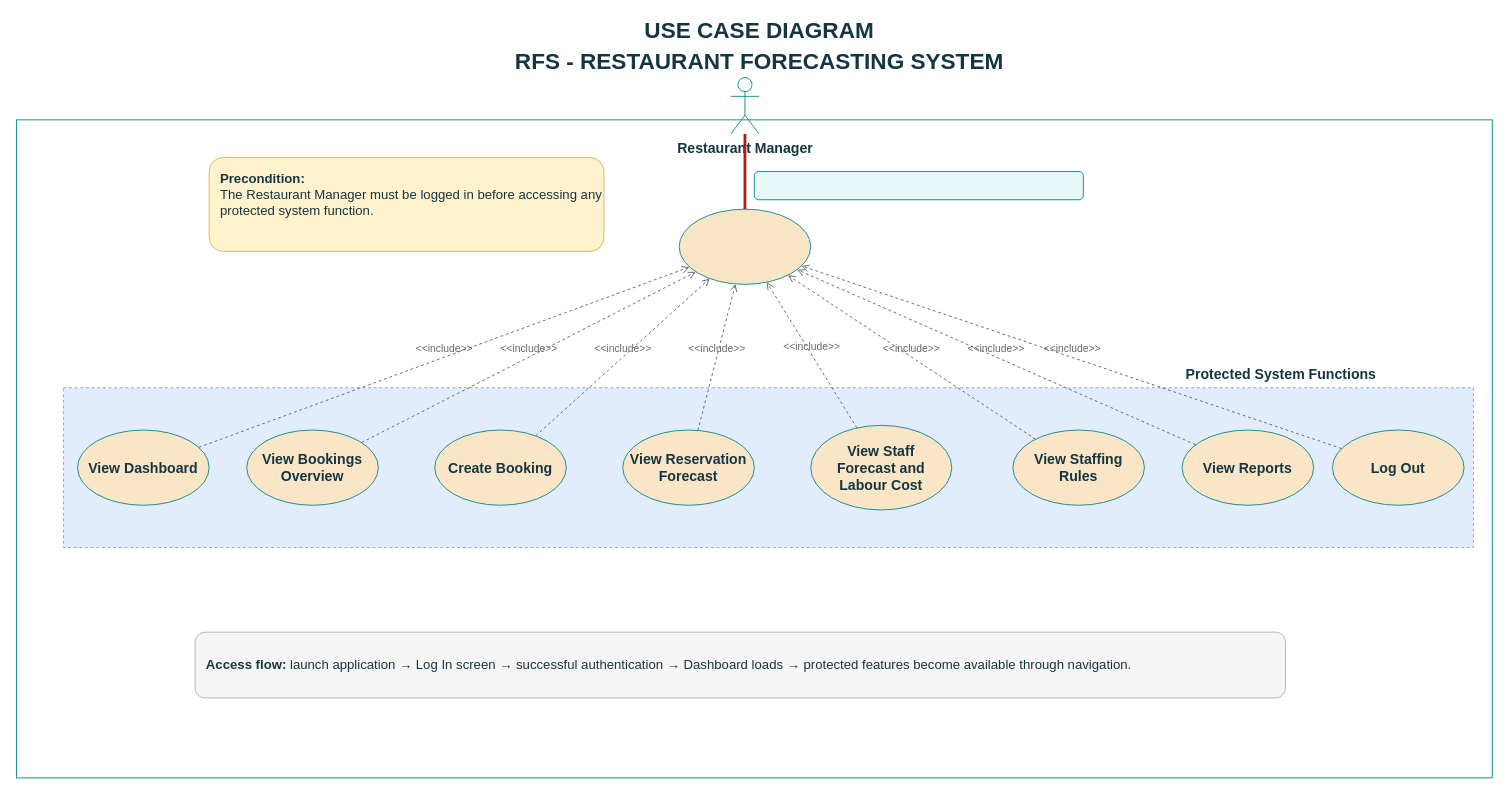
Image size: 1509x794. Some labels were removed from this diagram. The centre of each missing label's shape, as x and y in pixels:
"First interface shown when the application launches" goes at point (918, 185).
"Log In" goes at point (744, 246).
